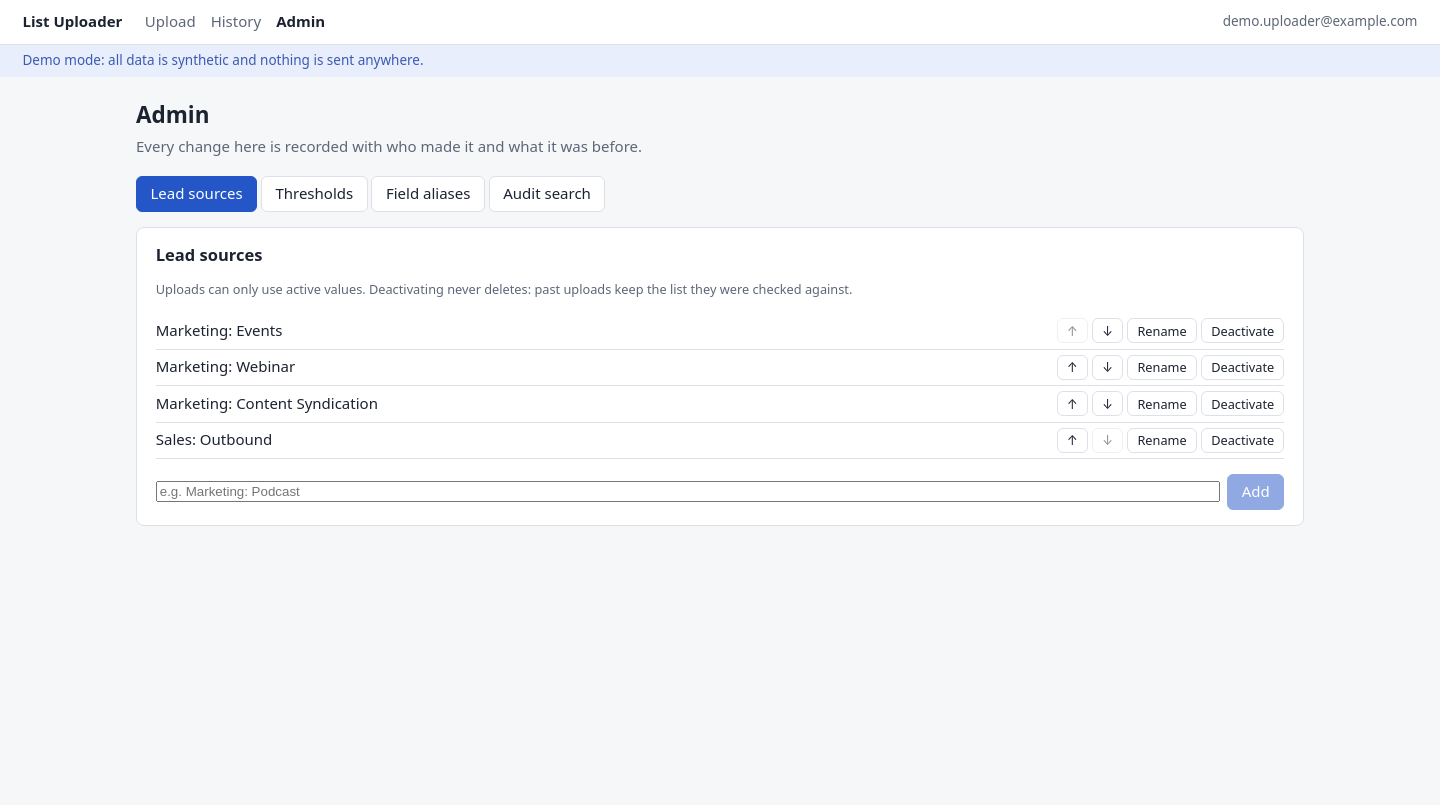
Test: admin › finds every upload that included a person and exports
This screenshot has width=1440, height=805.
Click the tab "Audit search" at (547, 194), box [489,176,605,212]
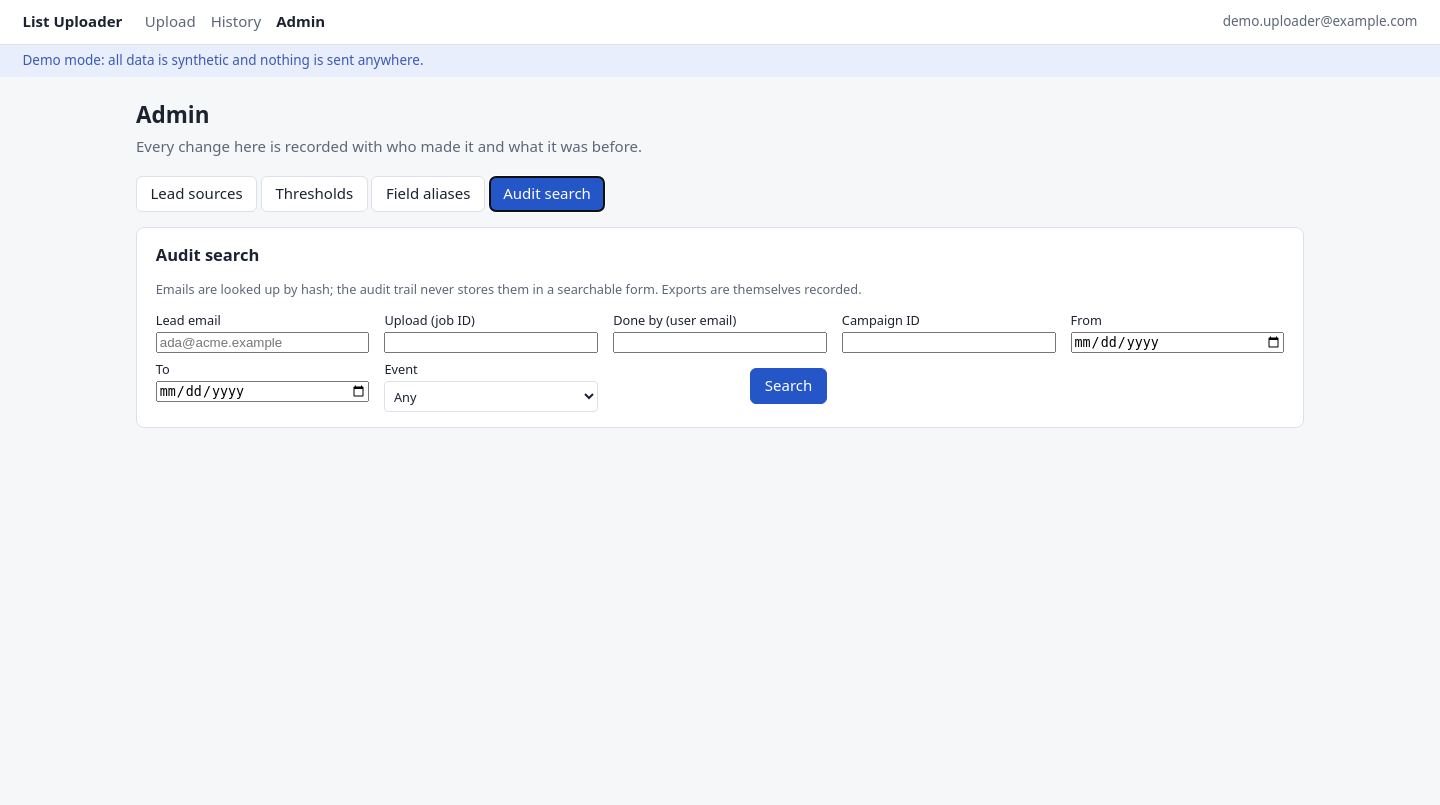
Type "ADA@acme.example" into the field labelled "Lead email" at (263, 342), box [156,332,370,353]
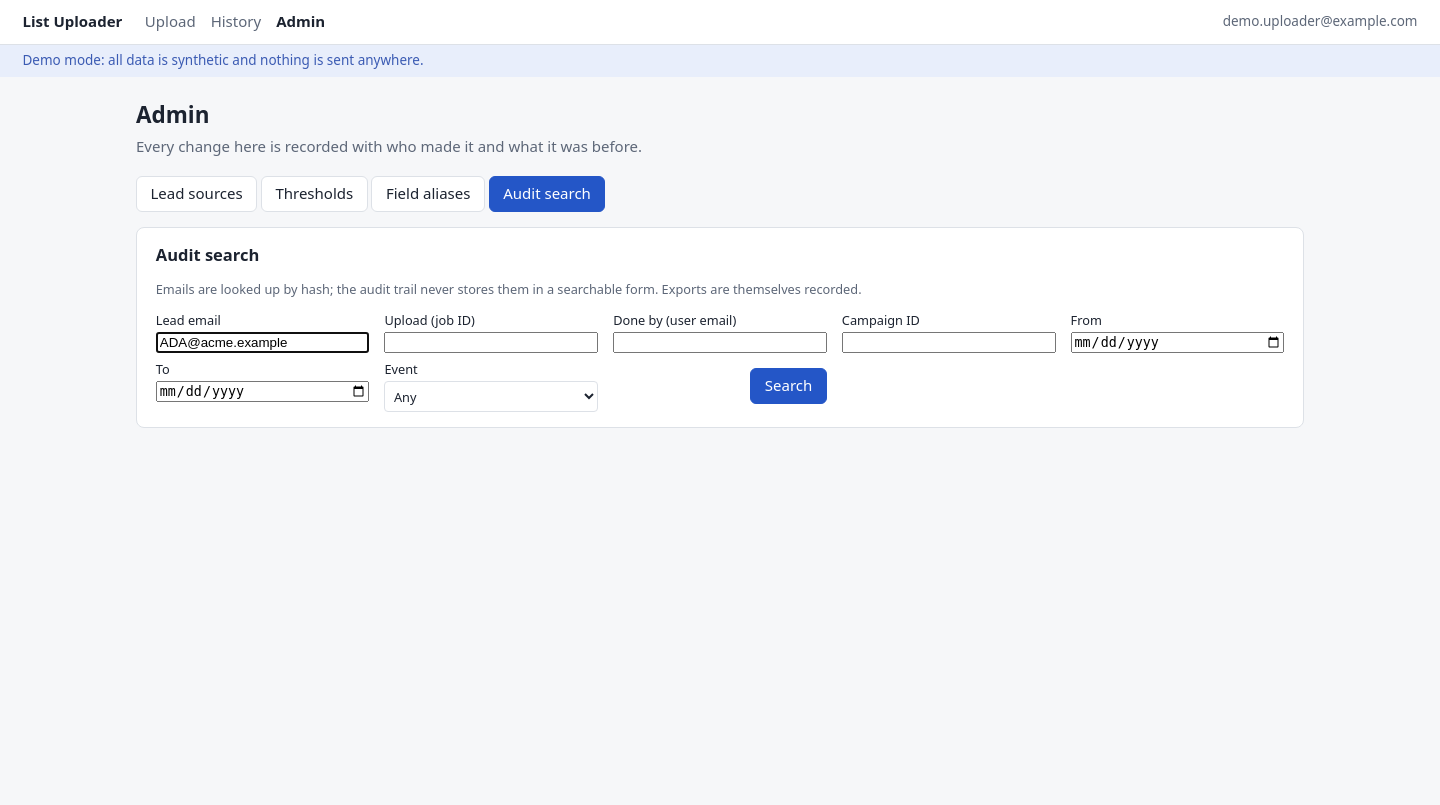
Click the button "Search" at (789, 386), box [750,368,827,404]
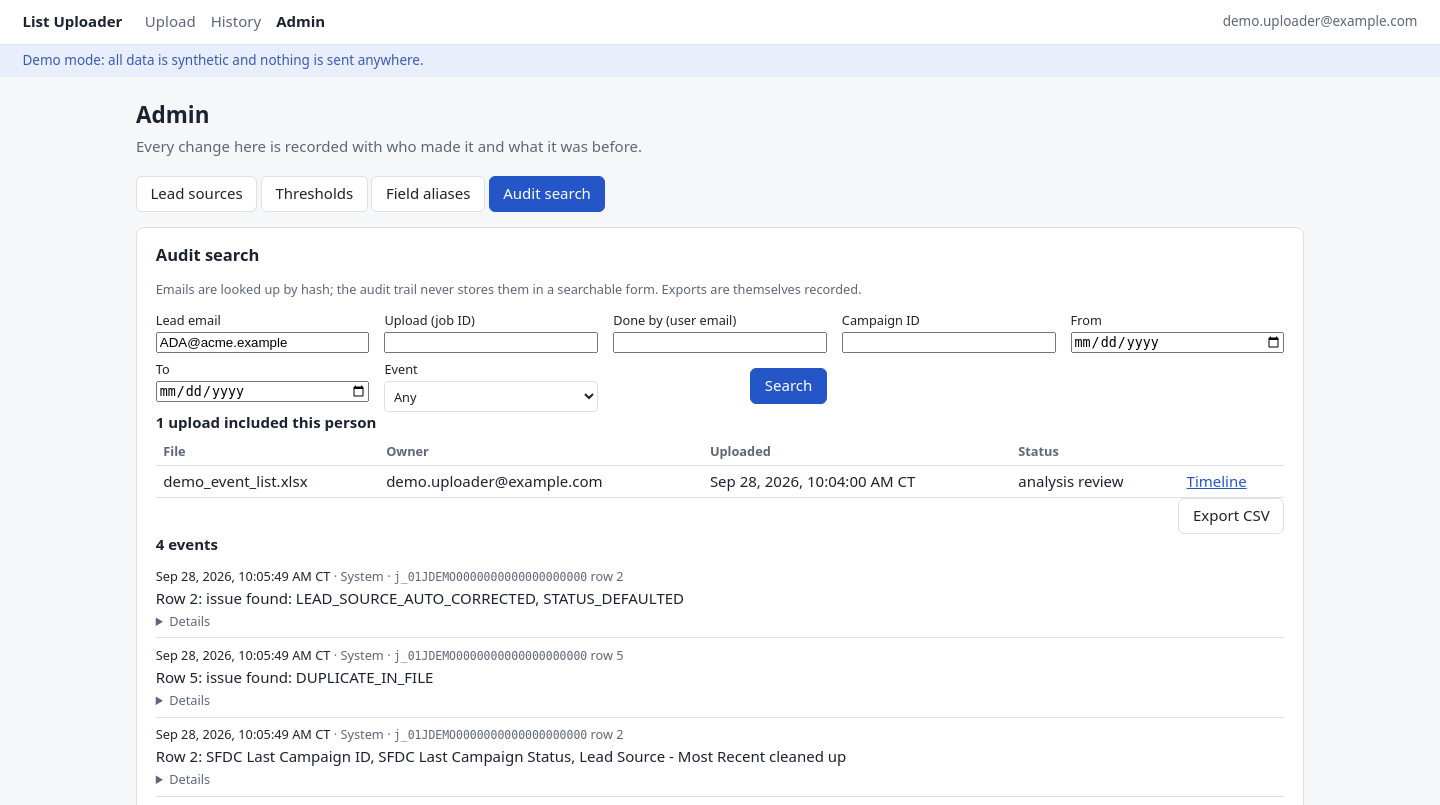
expect the text "demo_event_list.xlsx" is shown: met, box [156,466,379,497]
expect the text "Row 2: " is shown: met, box [156,588,684,608]
Click the button "Export CSV" at (1231, 516), box [1178,498,1284,534]
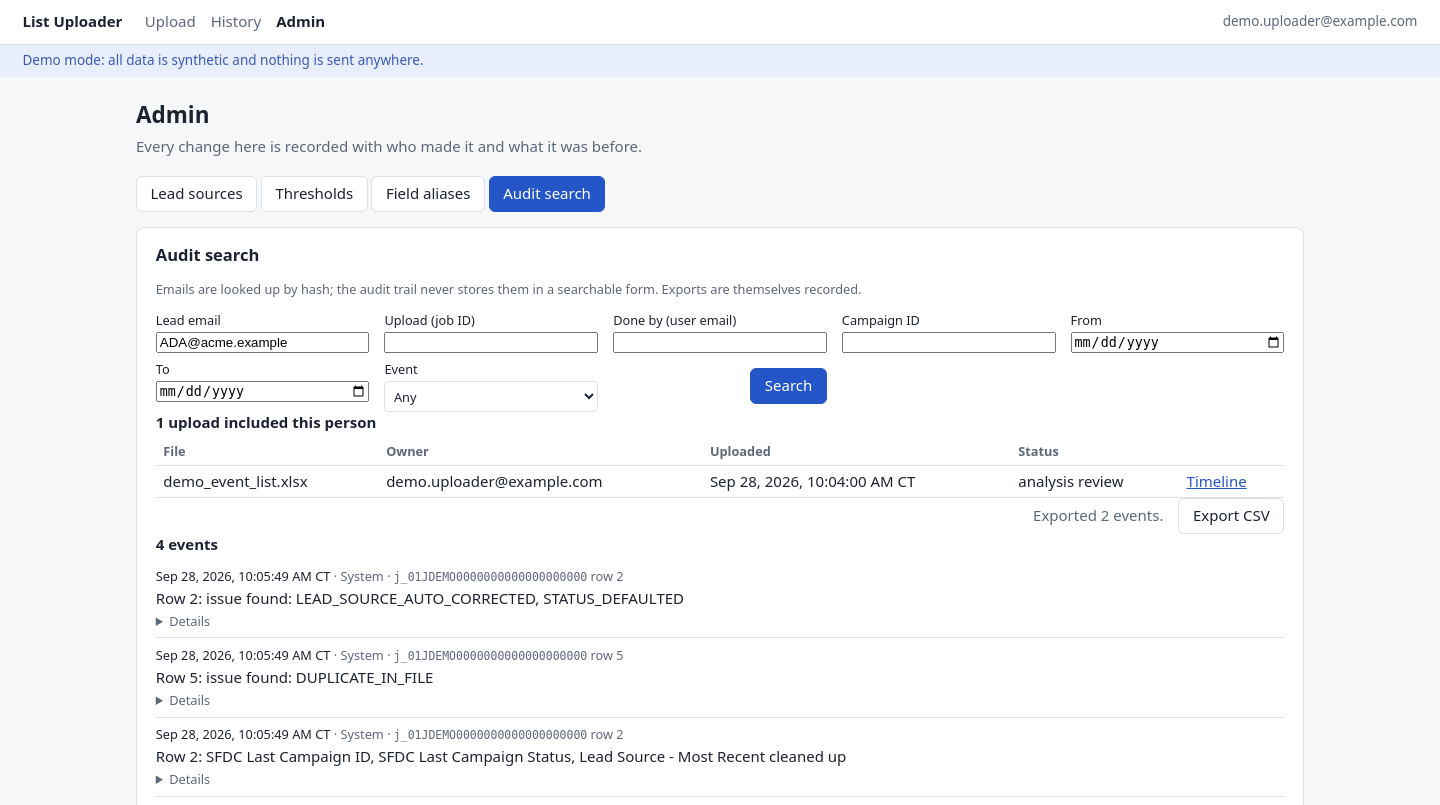
expect the text "Exported 2 events." is shown: met, box [1033,505,1163,527]
